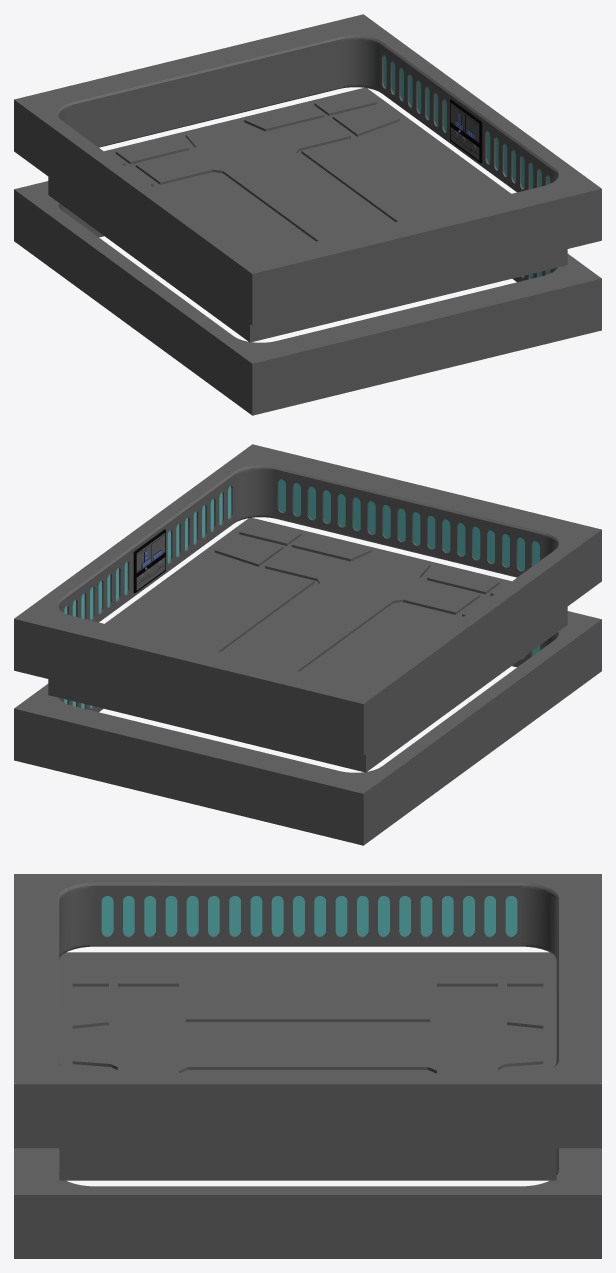
The model's file is panel_door.fbx.
The picture shows the model from 3 angles, top to bottom: view 1: azimuth 30°, elevation 25°; view 2: azimuth 150°, elevation 25°; view 3: azimuth 270°, elevation 25°; orthographic projection. The views are drawn at different scales.
Parts seen in each view (by area): view 1: Empty_Mesh, Empty_Mesh_1; view 2: Empty_Mesh, Empty_Mesh_1; view 3: Empty_Mesh, Empty_Mesh_1.
Boxes of the visible parts, bbox=[...] form: Empty_Mesh: bbox=[14, 14, 601, 415]; Empty_Mesh_1: bbox=[48, 87, 567, 342]; Empty_Mesh: bbox=[14, 444, 601, 845]; Empty_Mesh_1: bbox=[48, 517, 567, 772]; Empty_Mesh: bbox=[14, 874, 601, 1258]; Empty_Mesh_1: bbox=[59, 952, 556, 1180].
Bounding box in the file's own units: 110 × 42.6 × 130.
